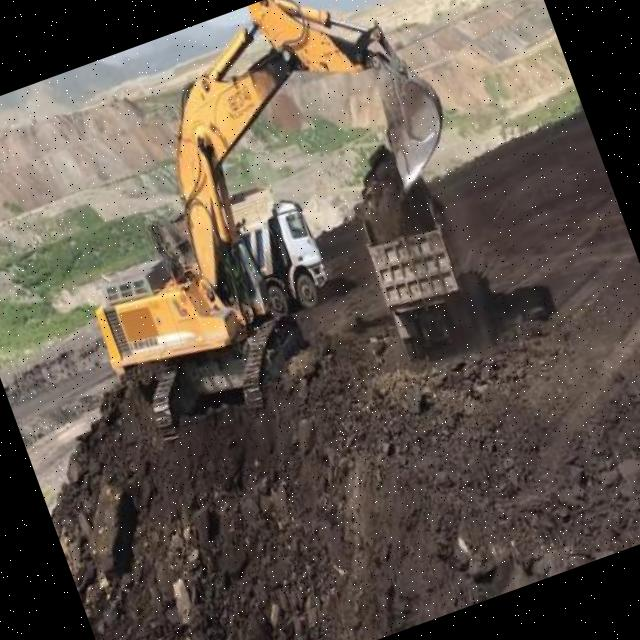Dump Truck: (349, 179, 484, 368), (229, 176, 340, 328)
Excavator: (7, 0, 523, 457)
